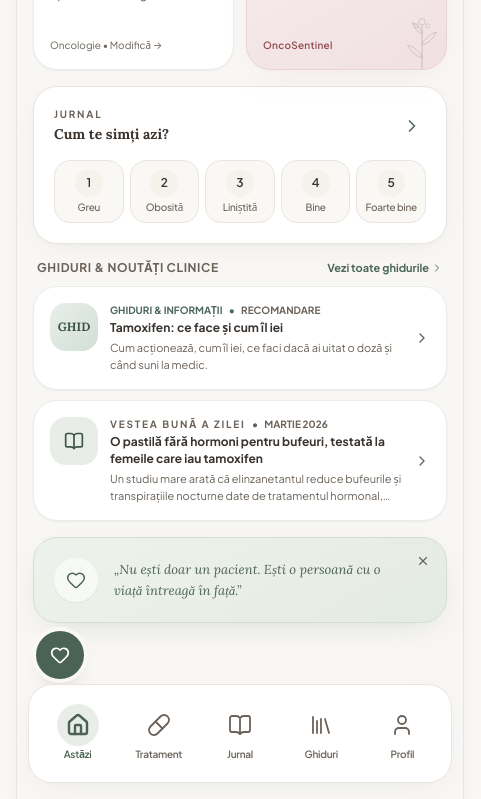
Test: Vestea bună a zilei › pe Astăzi › arată noutatea zilei și o deschide întreagă, cu sursa
(page scrolled)
Expected: the text "VESTEA BUNĂ A ZILEI" is shown, [110,417,246,432]
Click the heading "O pastilă fără hormoni pentru bufeuri, testată la femeile care iau tamoxifen" at (256, 451), box [110,434,402,467]
(page scrolled)
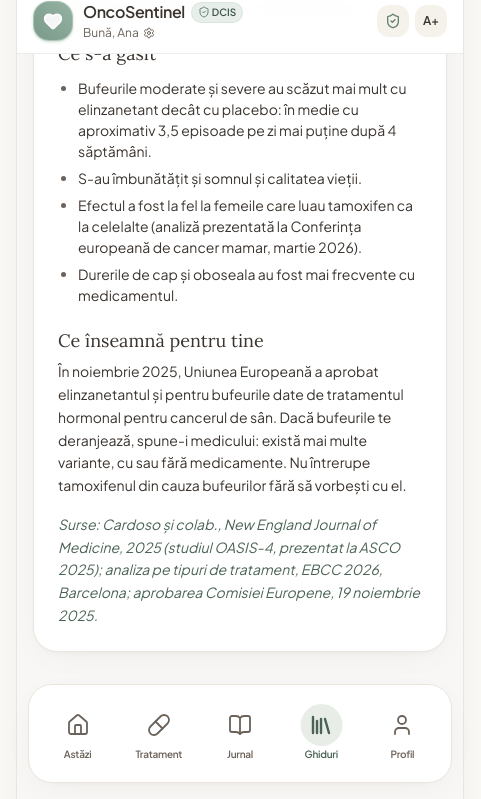
Expected: the heading "Ce înseamnă pentru tine" is shown, [58,329,264,352]
